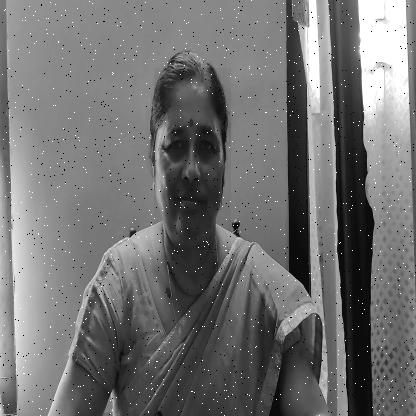Normal: (154, 68, 231, 250)
